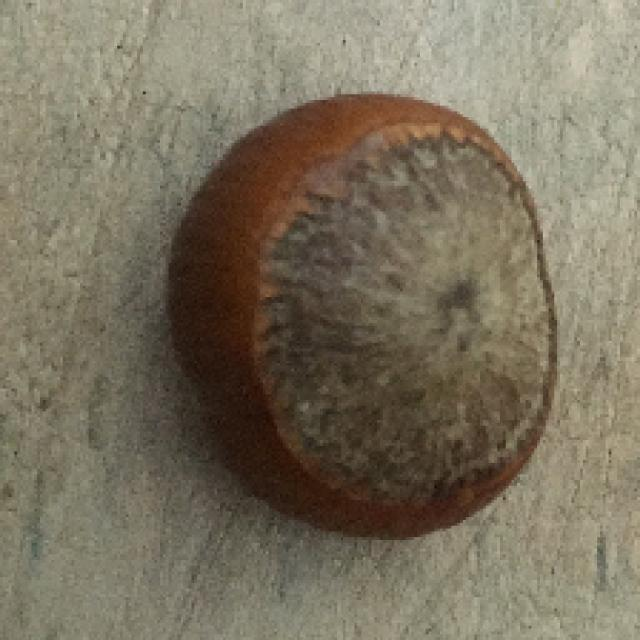qualityHazelnut: (162, 93, 560, 542)
